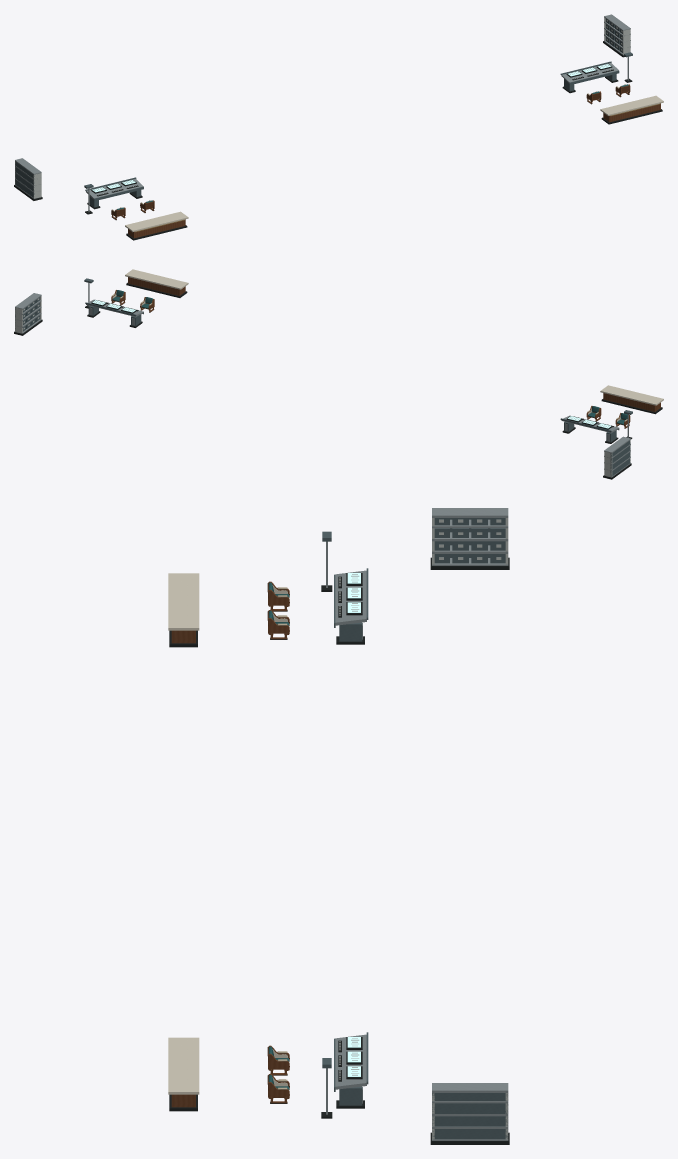
File: FITTED_UPPER_HORIZON_r001.glb
The picture shows the model from 3 angles, top to bottom: view 1: azimuth 30°, elevation 25°; view 2: azimuth 150°, elevation 25°; view 3: azimuth 270°, elevation 25°; orthographic projection. The views are drawn at different scales.
Visible parts, largest first — view 1: G8_BATCH_0305_D18_directory_09, G8_BATCH_0304_D18_directory_09, G8_BATCH_0314_D18_directory_09, G8_BATCH_0336_D18_directory_09, G8_BATCH_0342_D18_directory_09, G8_BATCH_0343_D18_directory_09, G8_BATCH_0334_D18_directory_09, G8_BATCH_0335_D18_directory_09; view 2: G8_BATCH_0304_D18_directory_09, G8_BATCH_0305_D18_directory_09, G8_BATCH_0314_D18_directory_09, G8_BATCH_0336_D18_directory_09, G8_BATCH_0342_D18_directory_09, G8_BATCH_0343_D18_directory_09, G8_BATCH_0332_D18_directory_09; view 3: G8_BATCH_0320_D18_directory_09, G8_BATCH_0314_D18_directory_09, G8_BATCH_0332_D18_directory_09, G8_BATCH_0304_D18_directory_09, G8_BATCH_0305_D18_directory_09, G8_BATCH_0336_D18_directory_09, G8_BATCH_0334_D18_directory_09, G8_BATCH_0335_D18_directory_09.
Part boxes in pixels (x1=…): G8_BATCH_0305_D18_directory_09: x1=600, y1=95, x2=663, y2=115; G8_BATCH_0304_D18_directory_09: x1=125, y1=211, x2=188, y2=231; G8_BATCH_0314_D18_directory_09: x1=15, y1=161, x2=34, y2=197; G8_BATCH_0336_D18_directory_09: x1=604, y1=14, x2=630, y2=55; G8_BATCH_0342_D18_directory_09: x1=128, y1=219, x2=185, y2=238; G8_BATCH_0343_D18_directory_09: x1=603, y1=103, x2=660, y2=122; G8_BATCH_0334_D18_directory_09: x1=86, y1=179, x2=143, y2=199; G8_BATCH_0335_D18_directory_09: x1=561, y1=63, x2=618, y2=83; G8_BATCH_0304_D18_directory_09: x1=600, y1=385, x2=663, y2=405; G8_BATCH_0305_D18_directory_09: x1=125, y1=269, x2=188, y2=289; G8_BATCH_0314_D18_directory_09: x1=610, y1=440, x2=630, y2=476; G8_BATCH_0336_D18_directory_09: x1=15, y1=293, x2=92, y2=333; G8_BATCH_0342_D18_directory_09: x1=603, y1=393, x2=660, y2=411; G8_BATCH_0343_D18_directory_09: x1=128, y1=277, x2=185, y2=295; G8_BATCH_0332_D18_directory_09: x1=604, y1=434, x2=630, y2=477; G8_BATCH_0320_D18_directory_09: x1=432, y1=1093, x2=508, y2=1139; G8_BATCH_0314_D18_directory_09: x1=434, y1=518, x2=505, y2=563; G8_BATCH_0332_D18_directory_09: x1=432, y1=508, x2=508, y2=565; G8_BATCH_0304_D18_directory_09: x1=168, y1=573, x2=199, y2=630; G8_BATCH_0305_D18_directory_09: x1=168, y1=1037, x2=199, y2=1094; G8_BATCH_0336_D18_directory_09: x1=362, y1=1083, x2=508, y2=1140; G8_BATCH_0334_D18_directory_09: x1=335, y1=570, x2=366, y2=639; G8_BATCH_0335_D18_directory_09: x1=335, y1=1034, x2=366, y2=1089.
Bounding box in the file's own units: 57.85 × 2.54 × 14.31.
16 materials, 14 textured.
